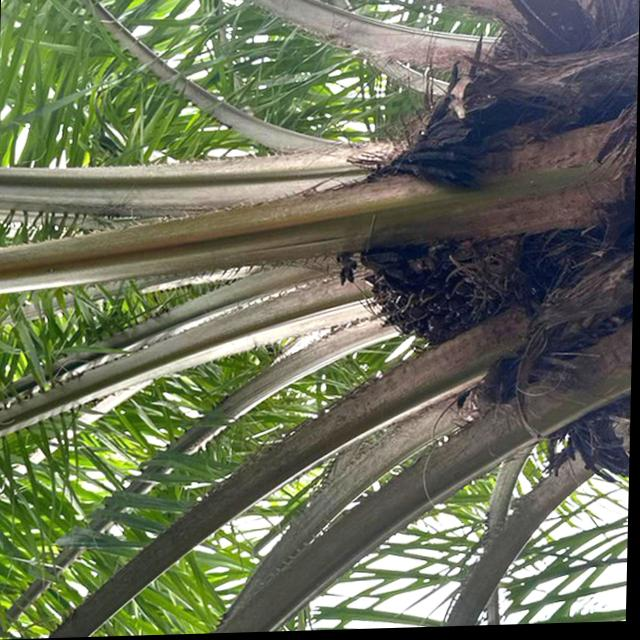almost: (350, 224, 518, 356)
